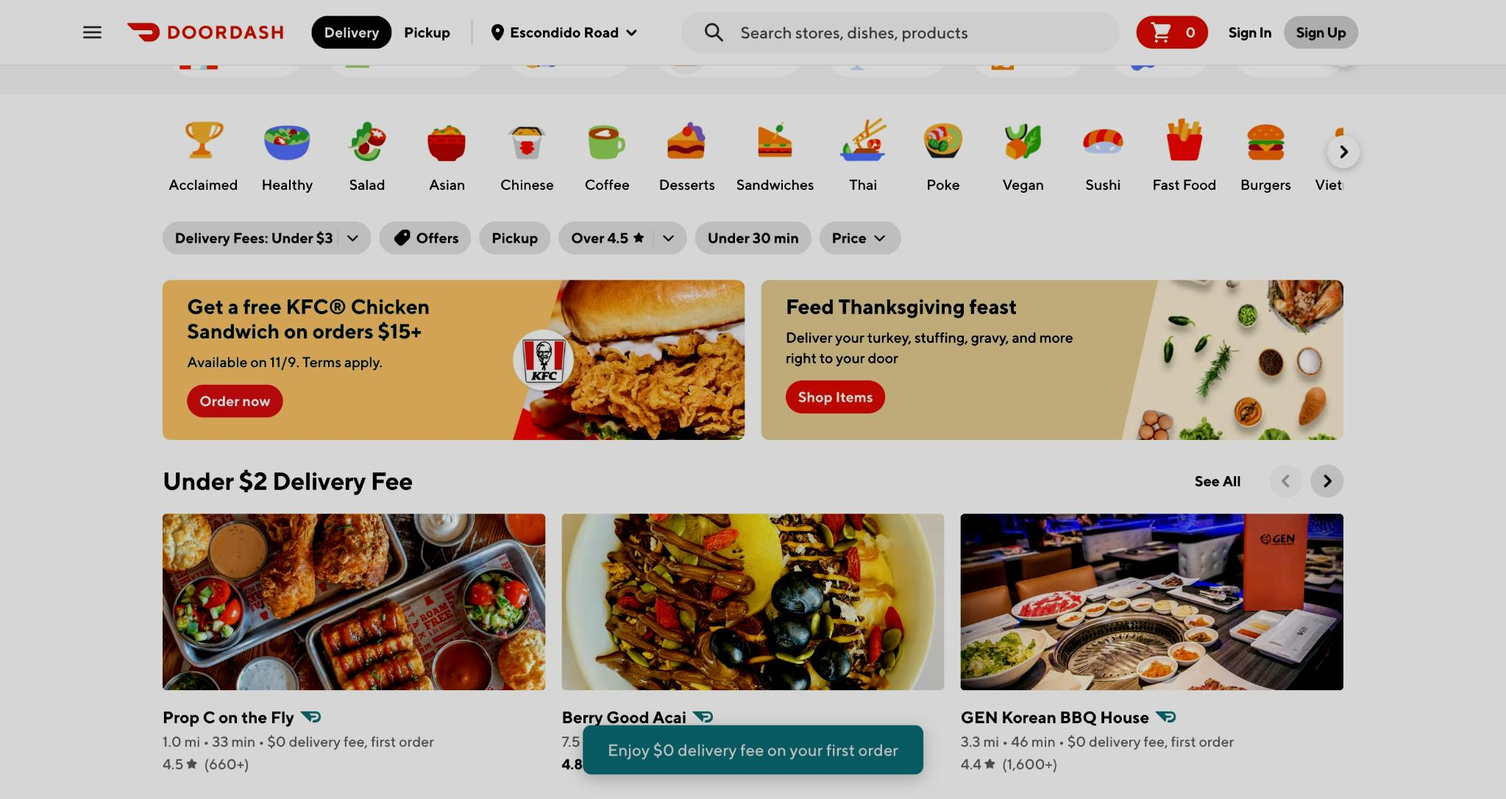webelement: (162, 279, 744, 439), (761, 279, 1343, 439), (561, 513, 944, 689), (960, 513, 1343, 689), (162, 513, 544, 689), (960, 702, 1343, 777), (162, 702, 544, 777), (1360, 513, 1506, 689), (583, 725, 923, 773), (187, 294, 486, 342), (785, 326, 1085, 367), (1360, 701, 1506, 777), (324, 23, 485, 76), (740, 21, 1111, 43), (162, 464, 412, 496), (654, 23, 804, 76), (561, 753, 944, 773), (960, 753, 1343, 773), (162, 753, 544, 773), (166, 23, 305, 76), (164, 104, 242, 198), (785, 293, 1085, 317), (506, 23, 633, 76), (162, 221, 370, 253), (824, 23, 948, 76), (970, 23, 1087, 76), (1231, 23, 1346, 76), (1367, 23, 1478, 76), (960, 731, 1234, 751), (162, 731, 434, 751), (1108, 23, 1210, 76), (562, 731, 829, 751), (960, 705, 1148, 727), (558, 221, 686, 253), (187, 351, 383, 371), (695, 221, 810, 253), (786, 380, 885, 412), (187, 384, 282, 416), (126, 22, 281, 41), (175, 229, 358, 245), (1360, 753, 1506, 773), (379, 221, 470, 253), (163, 705, 294, 727), (1215, 11, 1283, 52), (1360, 731, 1506, 750), (561, 705, 686, 727), (311, 15, 391, 48), (1359, 705, 1478, 727), (174, 25, 223, 74), (514, 25, 563, 74), (662, 25, 711, 74), (832, 25, 881, 74), (1116, 25, 1165, 74), (333, 25, 381, 74), (978, 25, 1026, 74), (1240, 25, 1288, 74), (1376, 25, 1424, 74), (1136, 15, 1207, 48), (391, 15, 461, 48), (479, 221, 550, 253), (1182, 464, 1252, 496), (509, 24, 617, 40), (386, 39, 472, 59), (571, 229, 674, 245), (71, 11, 111, 52), (715, 39, 792, 59), (736, 174, 813, 194), (1315, 174, 1392, 194), (707, 229, 798, 245), (168, 174, 238, 194), (228, 39, 292, 59), (1152, 174, 1216, 194), (1411, 174, 1474, 194), (799, 388, 873, 404), (1148, 19, 1195, 44), (1401, 753, 1458, 773), (199, 392, 270, 408), (658, 174, 714, 194), (1001, 753, 1056, 773), (391, 229, 458, 245), (567, 39, 620, 59), (500, 174, 553, 194), (335, 221, 368, 253), (831, 228, 888, 246), (652, 221, 684, 253), (261, 174, 312, 194), (1240, 174, 1291, 194), (1296, 22, 1346, 42), (885, 39, 935, 59), (584, 174, 629, 194), (203, 753, 248, 773), (323, 24, 379, 40), (1031, 39, 1075, 59), (1228, 22, 1271, 42), (1002, 174, 1044, 194), (1293, 39, 1333, 59), (1429, 39, 1467, 59), (403, 24, 449, 40), (491, 229, 537, 245), (1194, 472, 1240, 488), (349, 174, 384, 194), (429, 174, 464, 194), (926, 174, 960, 194), (1086, 174, 1120, 194), (1169, 39, 1198, 59), (603, 753, 632, 773), (849, 174, 877, 194), (162, 753, 184, 773), (1359, 753, 1381, 773), (150, 228, 174, 246), (561, 753, 582, 773), (960, 753, 980, 773), (1499, 23, 1506, 76), (1495, 174, 1506, 193)
